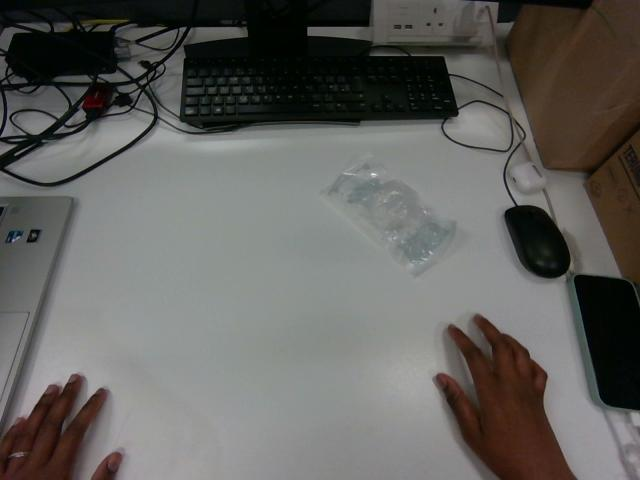gallipot: (322, 161, 455, 276)
